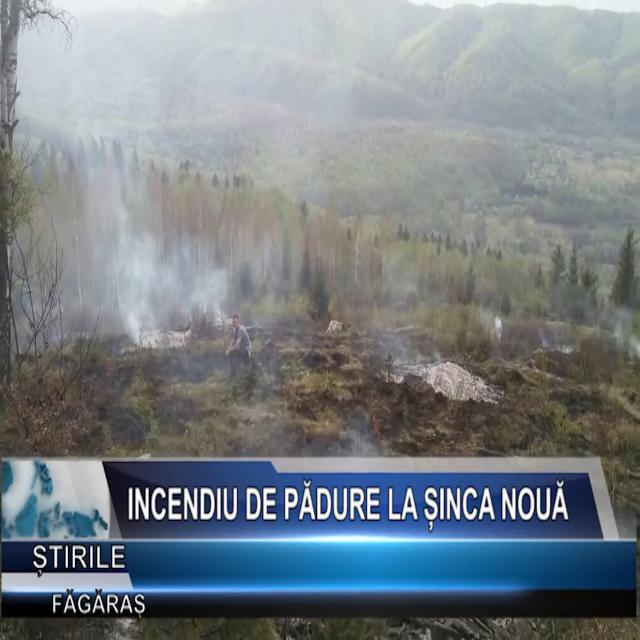Smoke: (34, 164, 248, 344)
